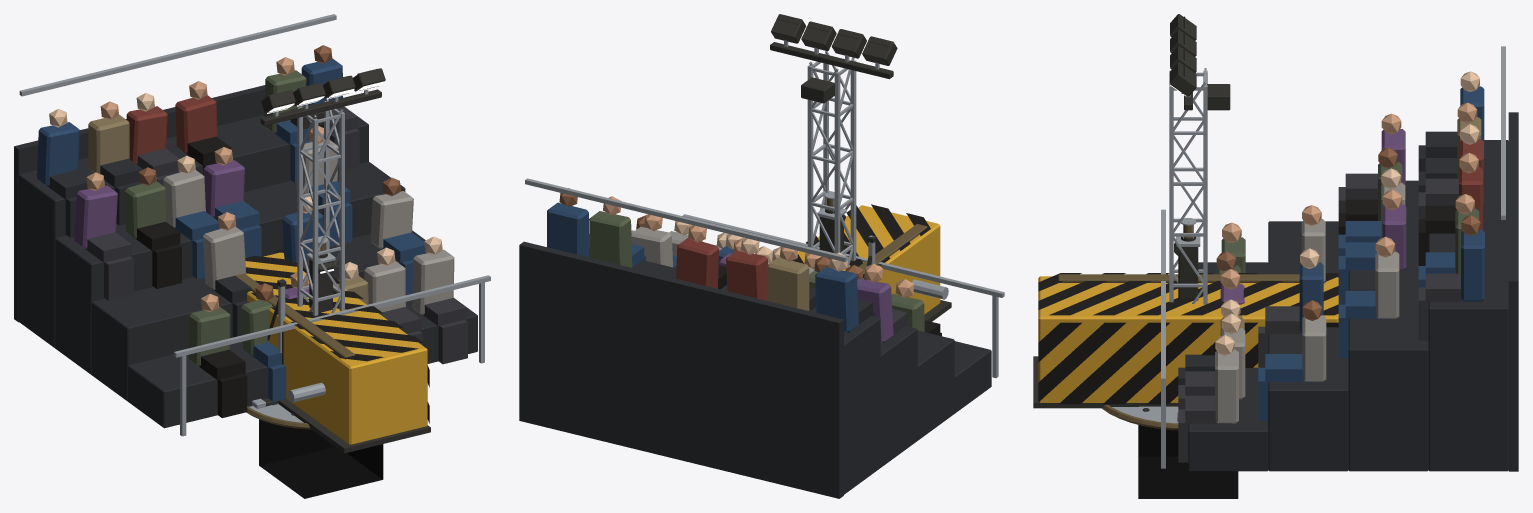
Rendered from arena-kit.glb.
The picture shows the model from 3 angles, left to right: view 1: azimuth 30°, elevation 25°; view 2: azimuth 150°, elevation 25°; view 3: azimuth 270°, elevation 25°; orthographic projection. The views are drawn at different scales.
Visible parts, largest first — view 1: Cube.062, Cube.034, Cube.076, Cube.132, Cube.084, Cube.085, Cube.061, Cube.072, Cube.073, Cube.078, Cube.079, Cube.120 (+9 smaller); view 2: Cube.062, Cube.132, Cube.076, Cube.034, Cube.120, Cube.072, Cube.081, Icosphere, pusher_top, Cube.084, Cube.078, Icosphere.003 (+3 smaller); view 3: Cube.062, Cube.034, Cube.076, Cube.085, Cube.132, pusher_face, Cube.084, pusher_top, Cube.061, Icosphere, Cube.079, Icosphere.003 (+9 smaller).
Part boxes in pixels (x1=…): Cube.062: x1=14, y1=14, x2=490, y2=436; Cube.034: x1=245, y1=252, x2=430, y2=453; Cube.076: x1=37, y1=58, x2=427, y2=405; Cube.132: x1=260, y1=68, x2=385, y2=315; Cube.084: x1=163, y1=140, x2=454, y2=314; Cube.085: x1=85, y1=106, x2=467, y2=364; Cube.061: x1=259, y1=419, x2=383, y2=498; Cube.072: x1=124, y1=70, x2=306, y2=366; Cube.073: x1=132, y1=136, x2=247, y2=417; Cube.078: x1=74, y1=160, x2=309, y2=298; Cube.079: x1=48, y1=158, x2=251, y2=337; Cube.120: x1=126, y1=95, x2=217, y2=164; Cube.062: x1=519, y1=178, x2=1004, y2=498; Cube.132: x1=770, y1=14, x2=897, y2=266; Cube.076: x1=547, y1=202, x2=858, y2=332; Cube.034: x1=798, y1=205, x2=951, y2=321; Cube.120: x1=676, y1=237, x2=767, y2=300; Cube.072: x1=589, y1=211, x2=924, y2=331; Cube.081: x1=767, y1=257, x2=809, y2=310; Icosphere: x1=603, y1=196, x2=914, y2=297; pusher_top: x1=792, y1=204, x2=930, y2=278; Cube.084: x1=631, y1=227, x2=814, y2=273; Cube.078: x1=719, y1=253, x2=893, y2=343; Icosphere.003: x1=674, y1=221, x2=848, y2=271; Cube.062: x1=1161, y1=46, x2=1518, y2=471; Cube.034: x1=1033, y1=276, x2=1338, y2=408; Cube.076: x1=1258, y1=86, x2=1484, y2=420; Cube.085: x1=1178, y1=173, x2=1463, y2=462; Cube.132: x1=1169, y1=14, x2=1230, y2=304; pusher_face: x1=1038, y1=322, x2=1338, y2=404; Cube.084: x1=1215, y1=182, x2=1405, y2=423; pusher_top: x1=1038, y1=273, x2=1338, y2=315; Cube.061: x1=1138, y1=425, x2=1238, y2=498; Icosphere: x1=1220, y1=102, x2=1478, y2=289; Cube.079: x1=1178, y1=131, x2=1457, y2=384; Icosphere.003: x1=1215, y1=71, x2=1479, y2=355.
Size of the model in its own units: 4 by 4.79 by 4.85.
